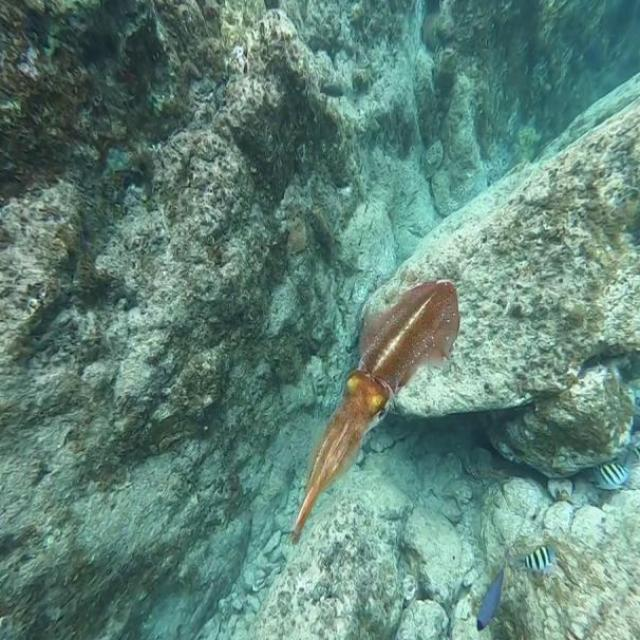SQUID: (283, 243, 470, 546)
